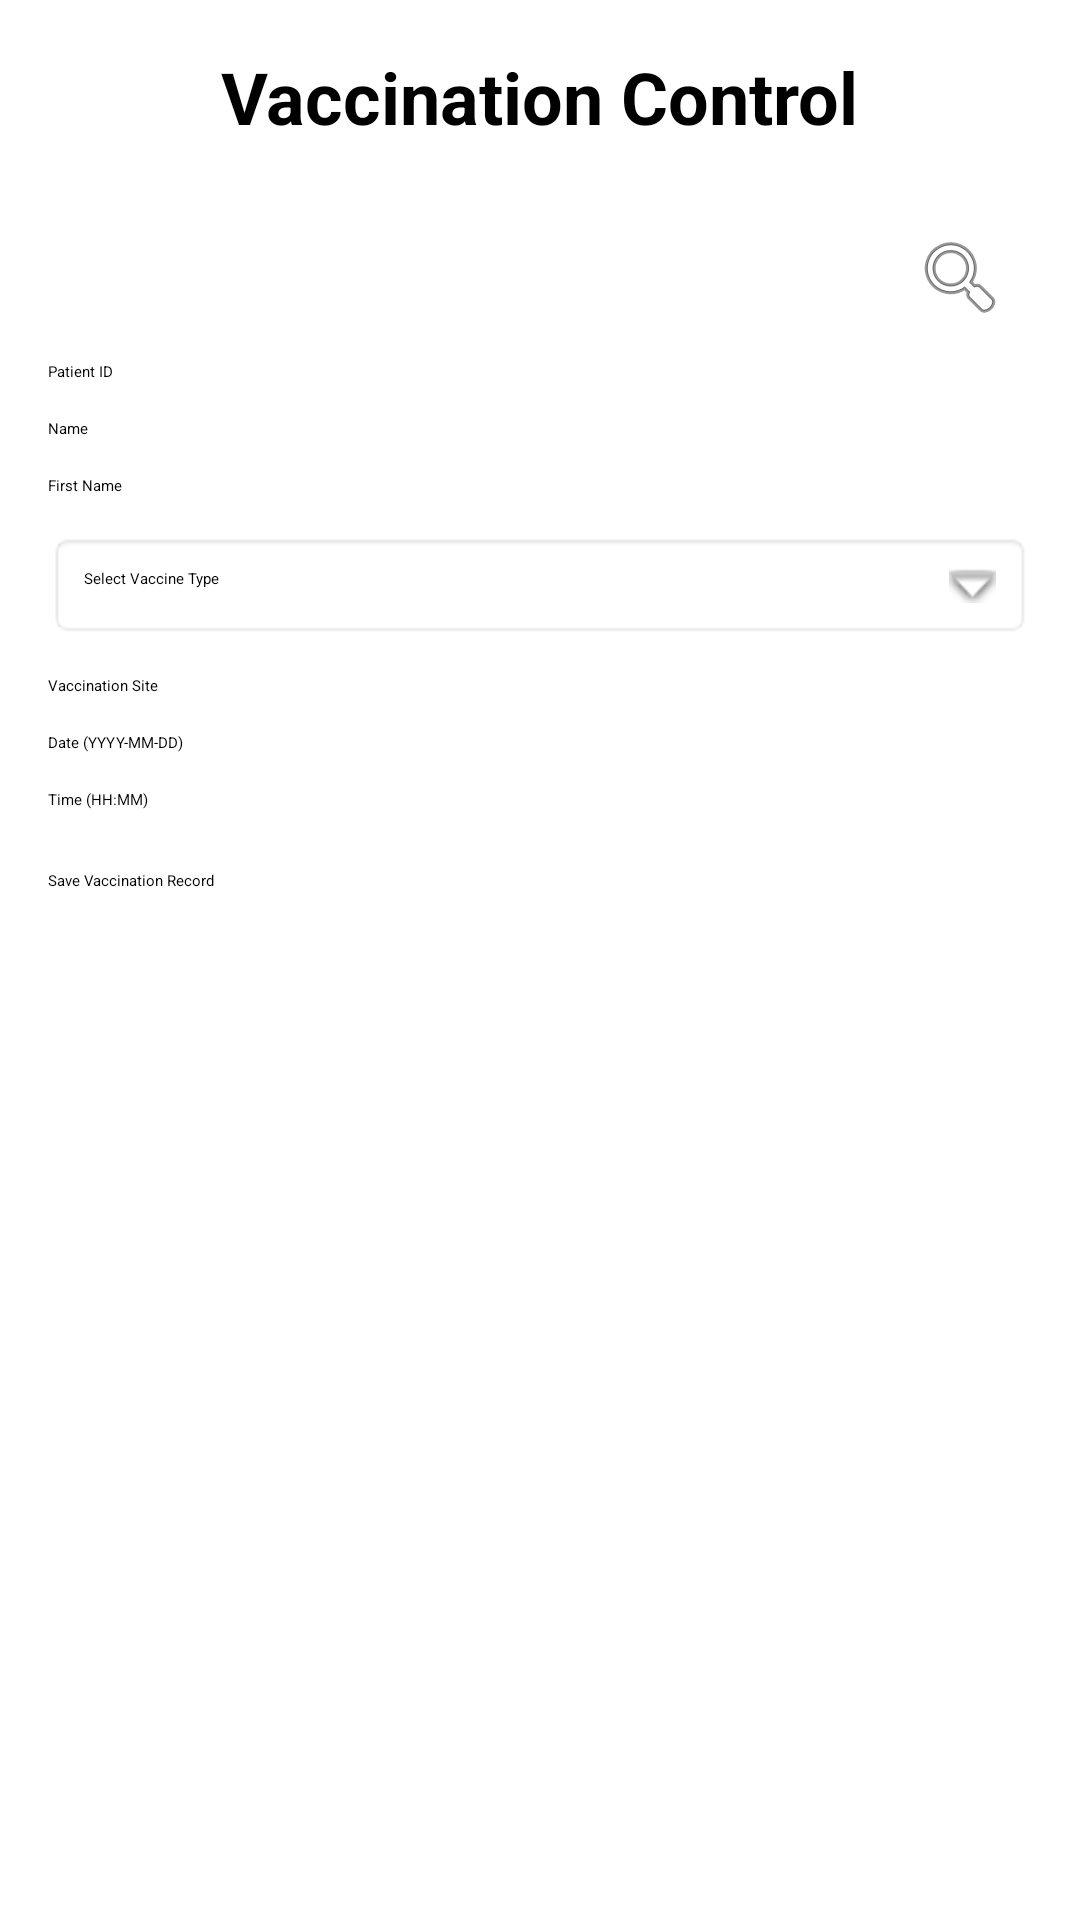

Named icons in this screenshot (1080w x 1920h) and their bounding boxes, (x1, y1, x2, y2):
Search: (924, 242, 996, 313)
